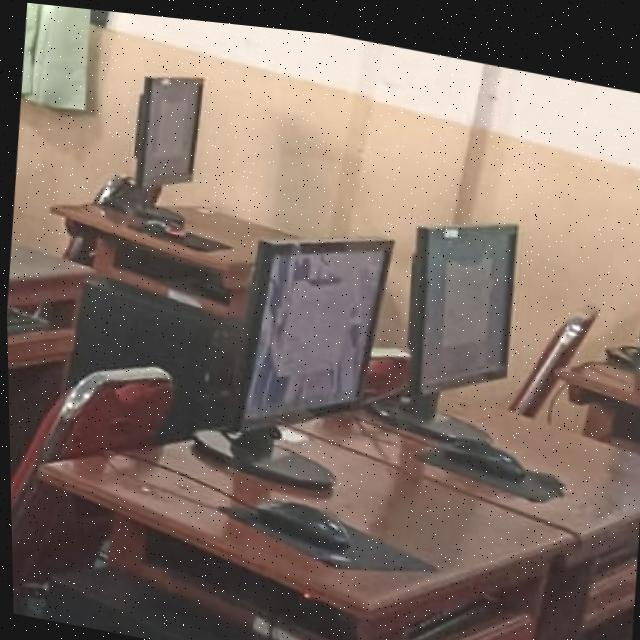onscreen: (233, 238, 385, 412), (420, 220, 512, 388), (144, 74, 198, 177)
